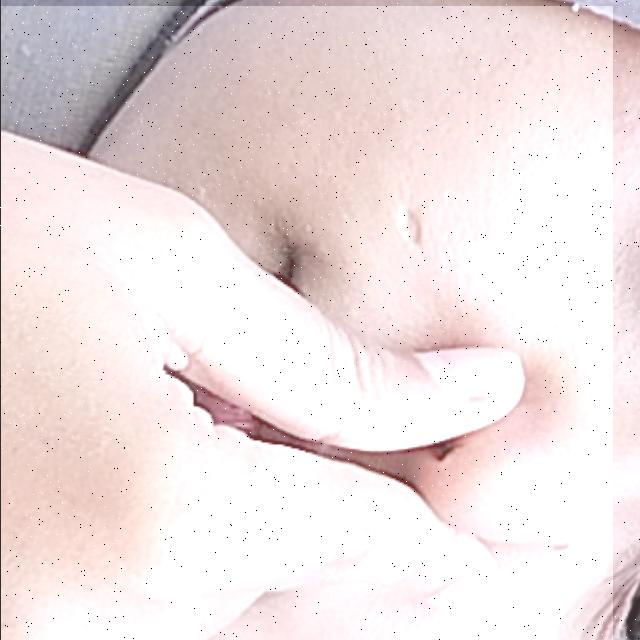bau: (0, 6, 612, 640)
